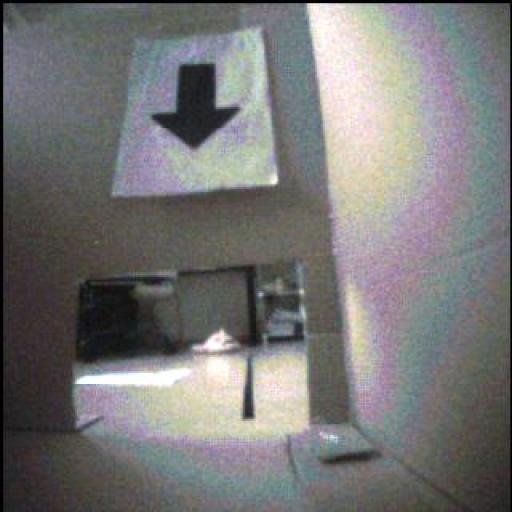arrow: (153, 65, 241, 150)
